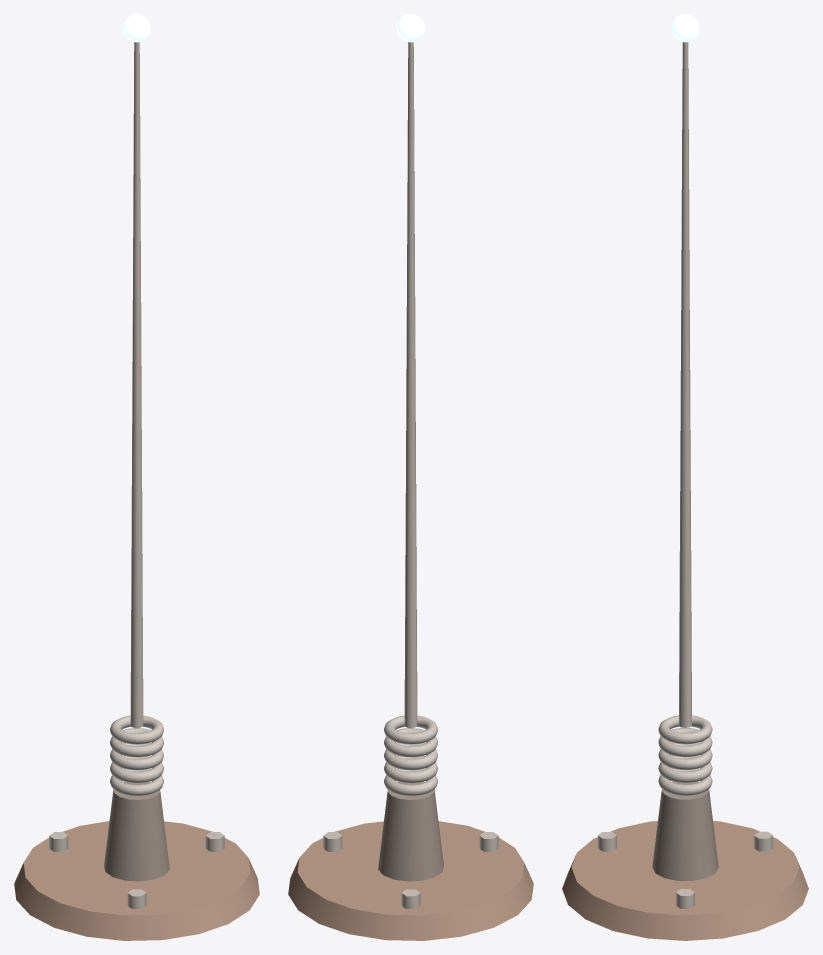
The model's file is P01_whip_antenna.glb.
3 views of the same model, side by side, from view 1: azimuth 30°, elevation 25°; view 2: azimuth 150°, elevation 25°; view 3: azimuth 270°, elevation 25° (orthographic).
Visible parts, largest first — view 1: base_plate, spring, mount, blink_light; view 2: base_plate, spring, mount, blink_light; view 3: base_plate, spring, mount, blink_light.
Boxes of the visible parts, <box> form: base_plate: <box>14,821,259,940</box>; spring: <box>49,42,224,908</box>; mount: <box>104,781,169,881</box>; blink_light: <box>123,14,150,42</box>; base_plate: <box>288,821,533,940</box>; spring: <box>323,42,498,908</box>; mount: <box>378,781,443,881</box>; blink_light: <box>397,14,424,42</box>; base_plate: <box>562,821,808,940</box>; spring: <box>598,42,772,908</box>; mount: <box>652,781,718,880</box>; blink_light: <box>672,14,698,42</box>.
Bounding box in the file's own units: 0.52 × 2.03 × 0.52.
